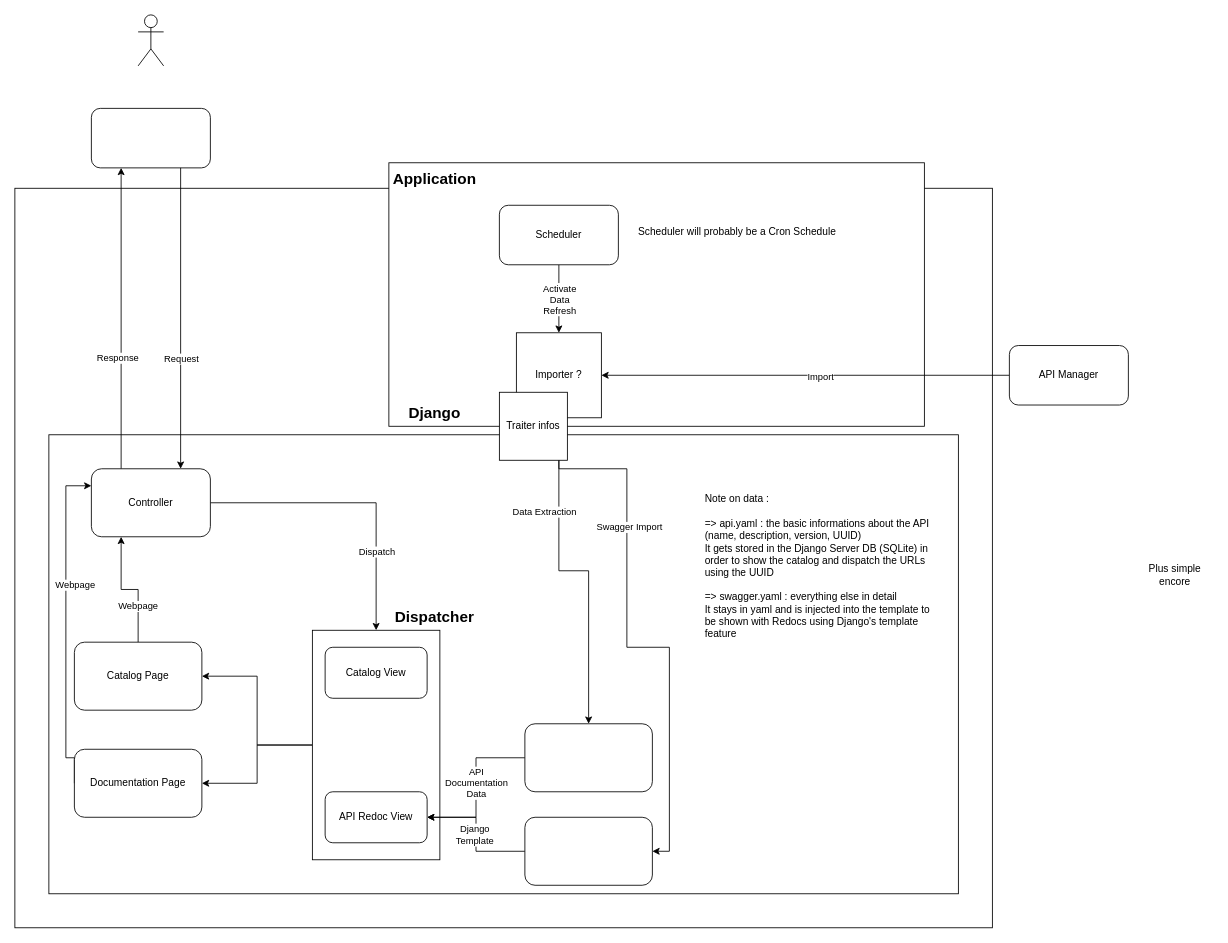
The diagram is 1228 pixels wide and 943 high, and some of its shapes have lost their labels. The shapes that lost their labels are listed below. From the top down, each one's box as (x1, y1, x2, y2) in pixels, then its label:
(137, 14, 164, 66): Users
(91, 108, 210, 168): Browser
(524, 723, 652, 792): Models
(524, 816, 652, 885): API Template
